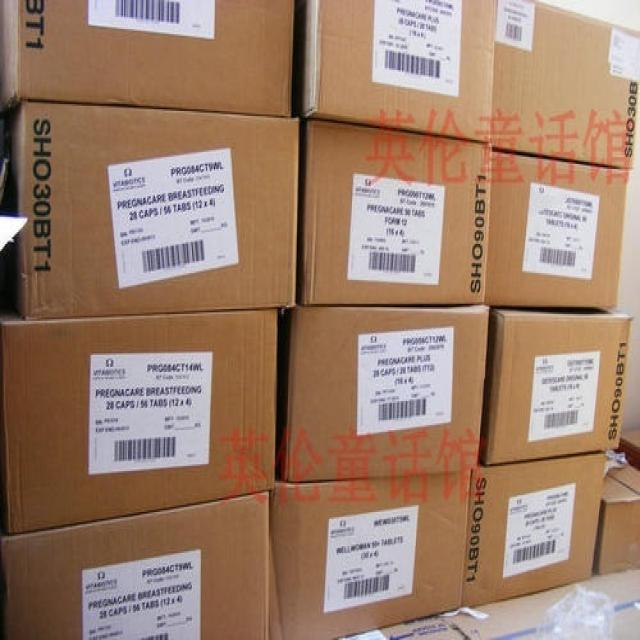box: (0, 309, 276, 536), (13, 104, 300, 317), (0, 492, 269, 640), (282, 305, 489, 481), (298, 119, 489, 304), (269, 469, 470, 640), (0, 0, 294, 116), (302, 0, 495, 142), (490, 0, 640, 169), (479, 307, 632, 466), (461, 454, 607, 608), (485, 150, 628, 307), (594, 464, 640, 575), (620, 427, 640, 469)
